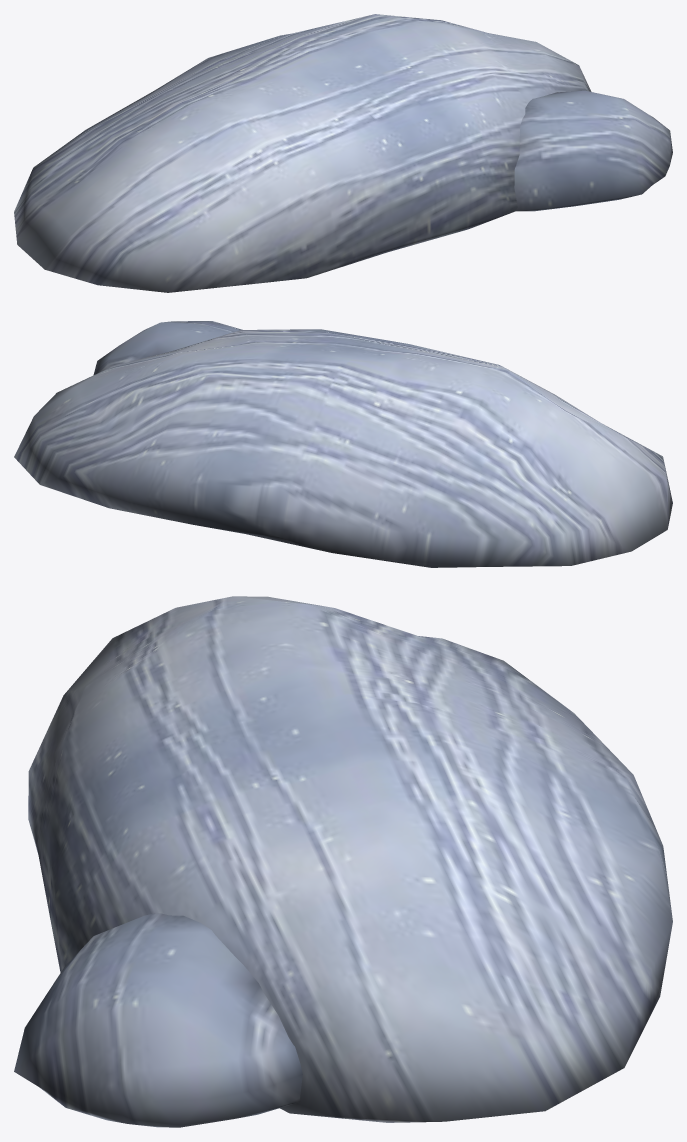
Rendered from rimeshore_snowdrift_a.glb.
The picture shows the model from 3 angles, top to bottom: view 1: azimuth 30°, elevation 25°; view 2: azimuth 150°, elevation 25°; view 3: azimuth 270°, elevation 25°; orthographic projection. The views are drawn at different scales.
Visible parts, largest first — view 1: rimeshore_snowdrift_a; view 2: rimeshore_snowdrift_a; view 3: rimeshore_snowdrift_a.
Boxes of the visible parts, left/top/right/bottom form: rimeshore_snowdrift_a: left=14, top=14, right=672, bottom=292; rimeshore_snowdrift_a: left=14, top=321, right=672, bottom=567; rimeshore_snowdrift_a: left=14, top=596, right=672, bottom=1127.
Bounding box in the file's own units: 1.95 × 0.3965 × 1.15.
1 material, 1 textured.
